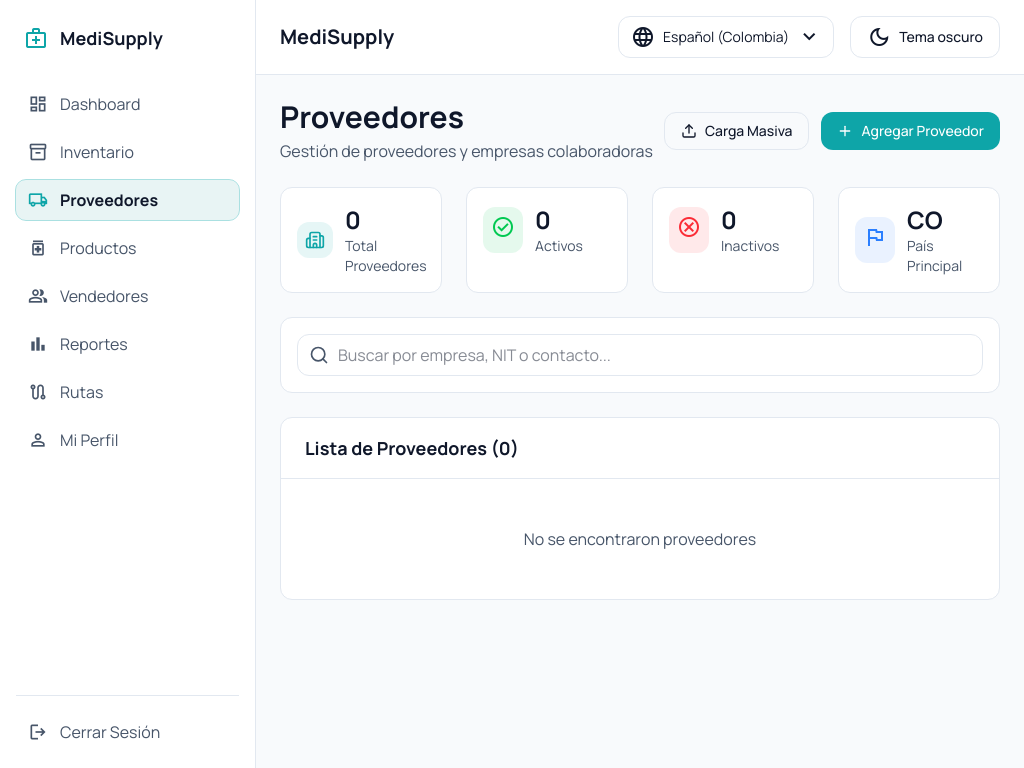
Test: Registro de proveedores y carga de productos (individual y masivo) › Gestión de Proveedores › debe navegar a página de carga masiva de proveedores
The width and height of the screenshot is (1024, 768).
# Click en carga masiva
Click the button "Carga Masiva": (737, 131) [664,112,809,150]
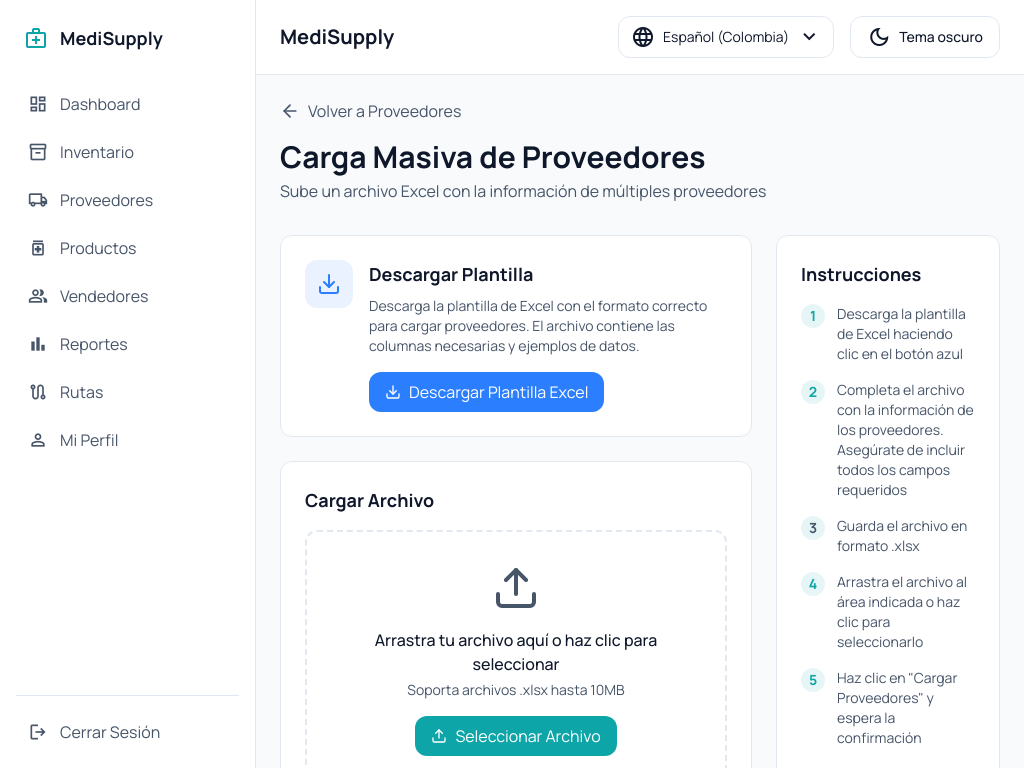
Expected: the heading "Carga Masiva de Proveedores" is shown, [280,136,706,177]
